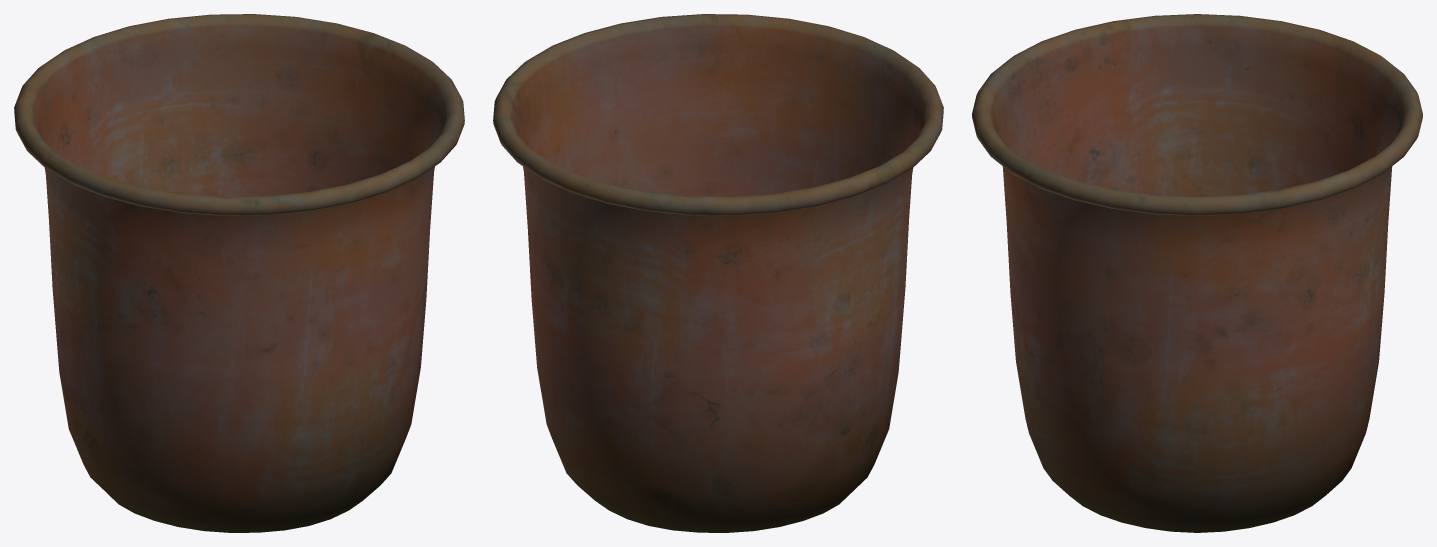
The model's file is Brass_Cup.fbx.
3 renders of one model, left to right at view 1: azimuth 30°, elevation 25°; view 2: azimuth 150°, elevation 25°; view 3: azimuth 270°, elevation 25°, orthographic.
Visible parts, largest first — view 1: Cylinder; view 2: Cylinder; view 3: Cylinder.
Boxes of the visible parts, x1,y1,x2,y2 form: Cylinder: [14, 14, 464, 532]; Cylinder: [493, 14, 943, 532]; Cylinder: [972, 14, 1422, 532].
Size of the model in its own units: 12.7 by 11.68 by 12.7.
